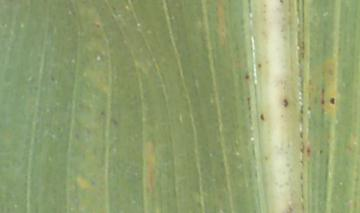tarspot: (329, 95, 336, 105), (317, 146, 324, 156), (305, 146, 312, 155), (283, 98, 289, 108), (244, 73, 251, 81), (259, 112, 265, 121), (257, 62, 262, 70), (279, 1, 284, 4)
